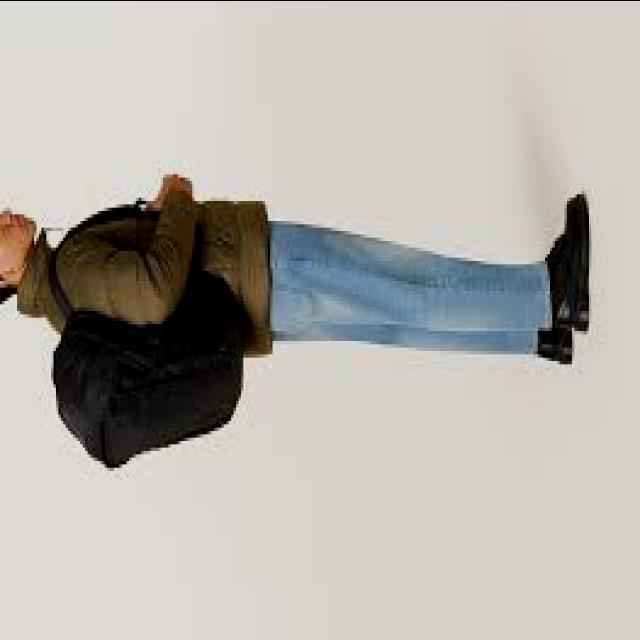backpack: (40, 263, 258, 487)
